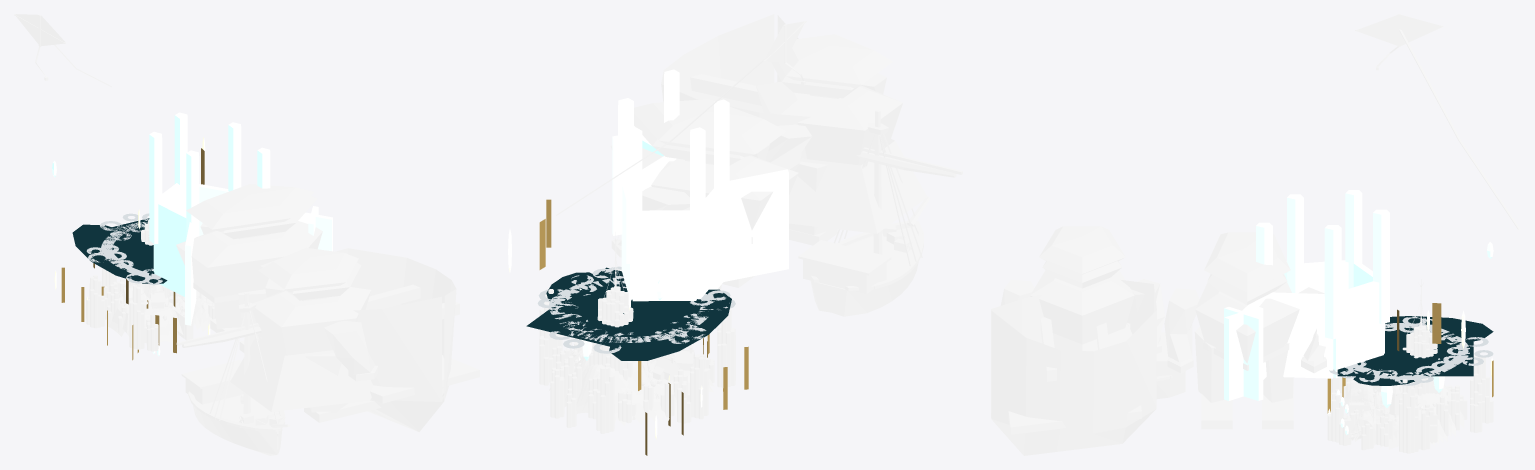
File: ile-tonnerre-v5-leger.glb
The picture shows the model from 3 angles, left to right: view 1: azimuth 30°, elevation 25°; view 2: azimuth 150°, elevation 25°; view 3: azimuth 270°, elevation 25°; orthographic projection. The views are drawn at different scales.
Visible parts, largest first — view 1: ile_anime2.025, ile_anime1.025, ile_anime3.023, ile_libre0.023, ile_anime0.025, ile_corps.025, ile_libre1.013, ile_anime5.015, ile_vitres.017; view 2: ile_libre0.023, ile_anime2.025, ile_corps.025, ile_anime0.025, ile_libre1.013, ile_anime3.023, ile_anime1.025, ile_vitres.017, ile_anime5.015, ile_lumieres.025; view 3: ile_anime1.025, ile_libre0.023, ile_anime3.023, ile_anime2.025, ile_corps.025, ile_libre1.013, ile_anime5.015, ile_anime0.025, ile_lumieres.025, ile_vitres.017.
Part boxes in pixels (<box>): ile_anime2.025: <box>230,247,380,422</box>; ile_anime1.025: <box>336,248,479,431</box>; ile_anime3.023: <box>176,184,322,352</box>; ile_libre0.023: <box>149,112,332,325</box>; ile_anime0.025: <box>176,292,290,455</box>; ile_corps.025: <box>86,219,215,351</box>; ile_libre1.013: <box>72,213,167,285</box>; ile_anime5.015: <box>14,14,111,87</box>; ile_vitres.017: <box>61,148,204,360</box>; ile_libre0.023: <box>612,69,788,301</box>; ile_anime2.025: <box>756,34,927,245</box>; ile_corps.025: <box>539,232,735,433</box>; ile_anime0.025: <box>798,110,962,316</box>; ile_libre1.013: <box>526,266,735,360</box>; ile_anime3.023: <box>610,99,798,290</box>; ile_anime1.025: <box>661,14,810,160</box>; ile_vitres.017: <box>539,199,748,455</box>; ile_anime5.015: <box>556,21,806,215</box>; ile_lumieres.025: <box>508,229,702,439</box>; ile_anime1.025: <box>991,280,1156,455</box>; ile_libre0.023: <box>1224,190,1389,400</box>; ile_anime3.023: <box>1164,232,1326,429</box>; ile_anime2.025: <box>1000,226,1165,353</box>; ile_corps.025: <box>1327,279,1493,453</box>; ile_libre1.013: <box>1329,316,1493,385</box>; ile_anime5.015: <box>1355,14,1520,229</box>; ile_anime0.025: <box>1156,332,1185,398</box>; ile_lumieres.025: <box>1328,242,1493,434</box>; ile_vitres.017: <box>1327,303,1493,413</box>.
Bounding box in the file's own units: 3.74 × 4.63 × 6.39.
